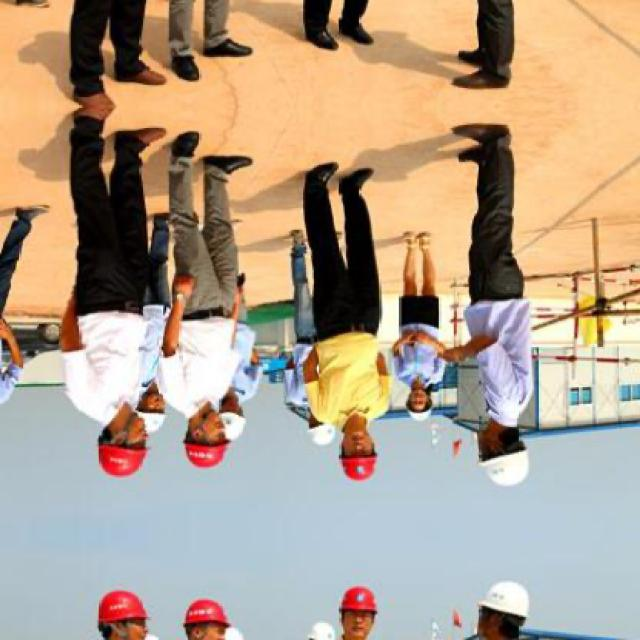con casco: (306, 379, 386, 473), (448, 406, 558, 472), (91, 396, 155, 489), (187, 404, 257, 476), (132, 385, 180, 445), (415, 378, 478, 419)
